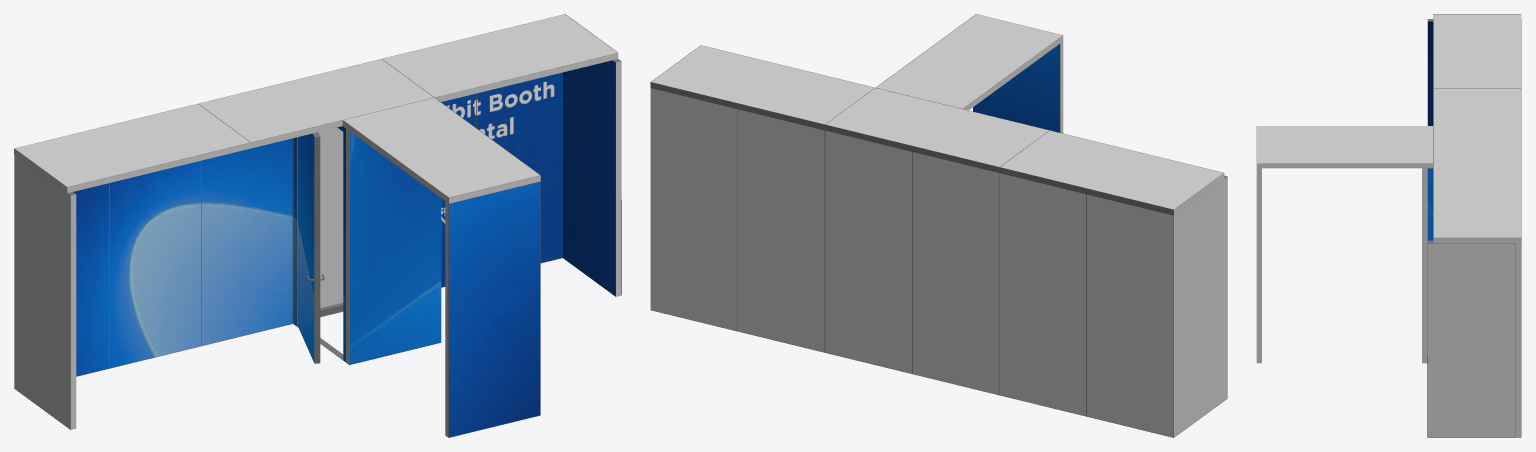
The picture shows the model from 3 angles, left to right: view 1: azimuth 30°, elevation 25°; view 2: azimuth 150°, elevation 25°; view 3: azimuth 270°, elevation 25°; orthographic projection. The views are drawn at different scales.
Visible parts, largest first — view 1: BM209_structure_panels, BM209_graphic_left_wall, BM209_graphic_column_front, BM209_graphic_right_wall, BM209_graphic_closet_front, BM209_structure_metal; view 2: BM209_structure_panels, BM209_structure_metal, BM209_graphic_column_back; view 3: BM209_structure_panels, BM209_structure_metal, BM209_graphic_left_wall, BM209_graphic_right_wall.
Boxes of the visible parts, left/top/right/bottom form: BM209_structure_panels: left=14, top=14, right=621, bottom=437; BM209_graphic_left_wall: left=73, top=126, right=345, bottom=376; BM209_graphic_column_front: left=449, top=182, right=540, bottom=437; BM209_graphic_right_wall: left=441, top=60, right=615, bottom=296; BM209_graphic_closet_front: left=349, top=131, right=440, bottom=364; BM209_structure_metal: left=14, top=14, right=621, bottom=437; BM209_structure_panels: left=650, top=14, right=1227, bottom=437; BM209_structure_metal: left=650, top=14, right=1226, bottom=437; BM209_graphic_column_back: left=973, top=44, right=1059, bottom=132; BM209_structure_panels: left=1256, top=14, right=1521, bottom=437; BM209_structure_metal: left=1256, top=14, right=1521, bottom=437; BM209_graphic_left_wall: left=1428, top=21, right=1433, bottom=125; BM209_graphic_right_wall: left=1428, top=168, right=1433, bottom=240.
Bounding box in the file's own units: 5.96 × 2.48 × 2.98.
9 materials, 5 textured.
